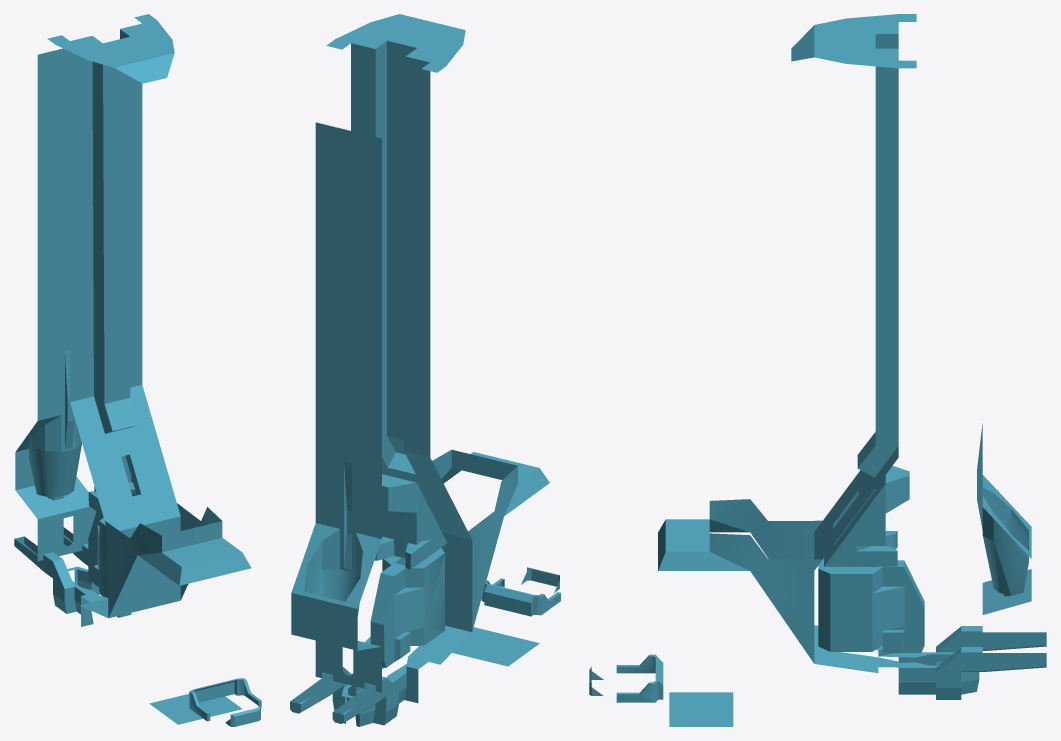
The model's file is cluster_5.fbx.
3 views of the same model, side by side, from view 1: azimuth 30°, elevation 25°; view 2: azimuth 150°, elevation 25°; view 3: azimuth 270°, elevation 25° (orthographic). The views are drawn at different scales.
Parts seen in each view (by area): view 1: cluster_5; view 2: cluster_5; view 3: cluster_5.
Boxes of the visible parts, left/top/right/bottom form: cluster_5: left=14, top=14, right=261, bottom=726; cluster_5: left=290, top=14, right=560, bottom=726; cluster_5: left=589, top=14, right=1046, bottom=726.
Size of the model in its own units: 50296 by 288059 by 178733.
